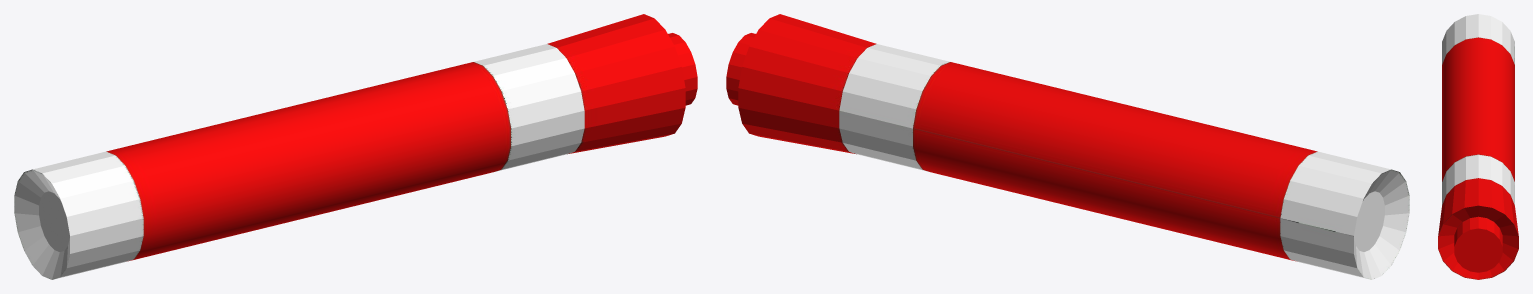
The model's file is red marker.FBX.
3 renders of one model, left to right at view 1: azimuth 30°, elevation 25°; view 2: azimuth 150°, elevation 25°; view 3: azimuth 270°, elevation 25°, orthographic. The views are drawn at different scales.
Visible parts, largest first — view 1: Cylinder002; view 2: Cylinder002; view 3: Cylinder002.
Boxes of the visible parts, box(x1,y1,x2,y2) form: Cylinder002: box(14, 14, 697, 279); Cylinder002: box(726, 14, 1409, 279); Cylinder002: box(1438, 14, 1518, 279).
Bounding box in the file's own units: 26 × 4.44 × 4.37.
1 material, 1 textured.
